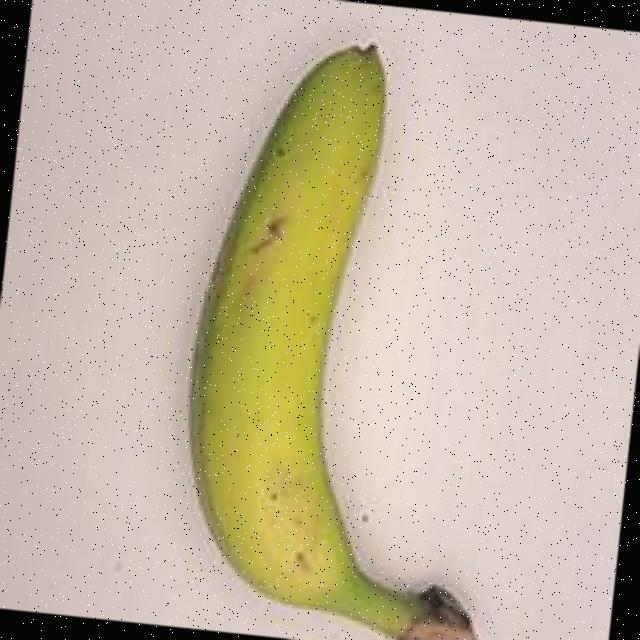Unripe: (67, 0, 558, 640)
